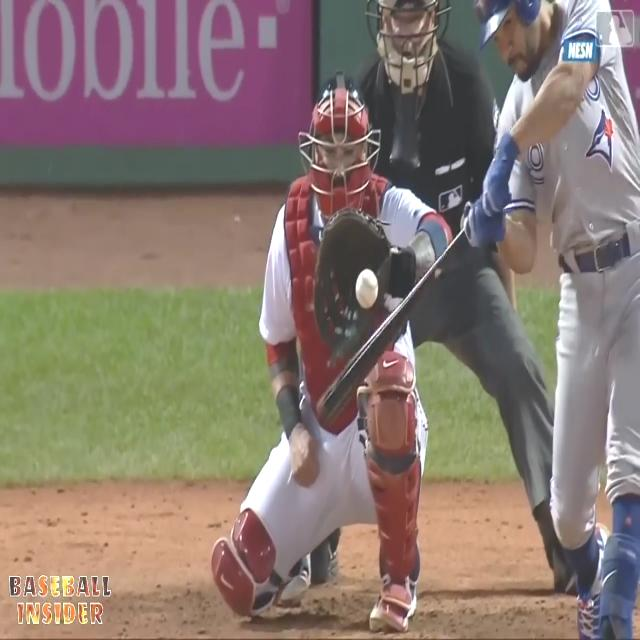baseball bat: (316, 234, 468, 424)
sports ball: (356, 268, 378, 310)
